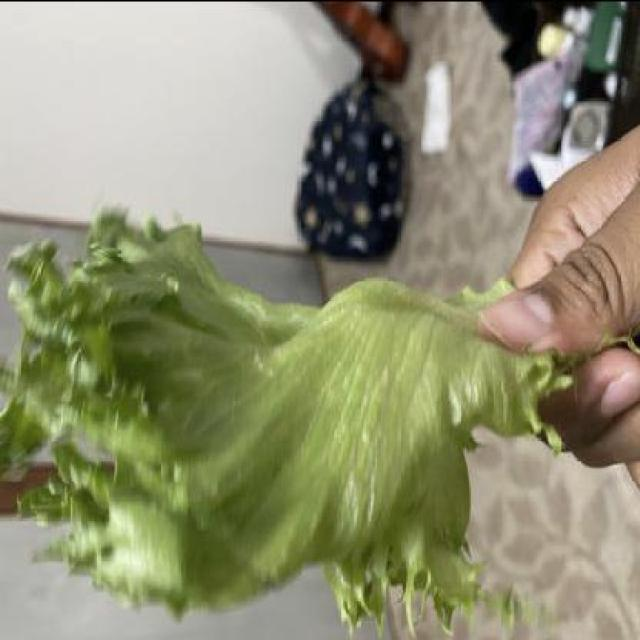Lettuce: (3, 196, 564, 640)
